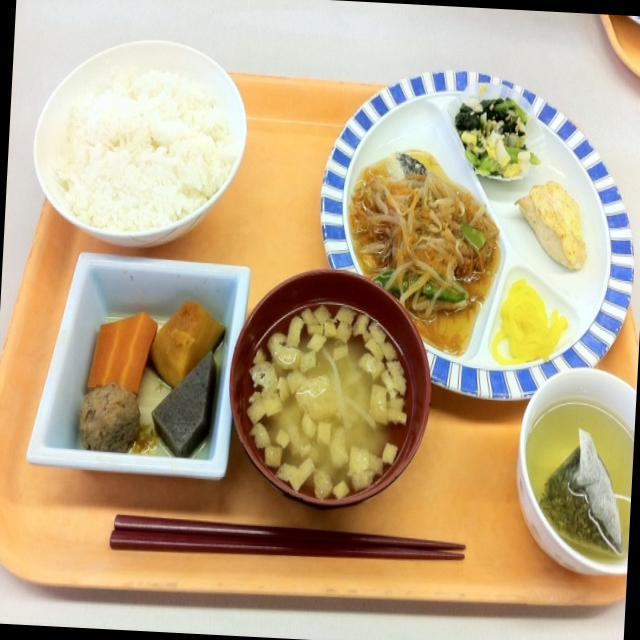Rice: (38, 45, 236, 234)
